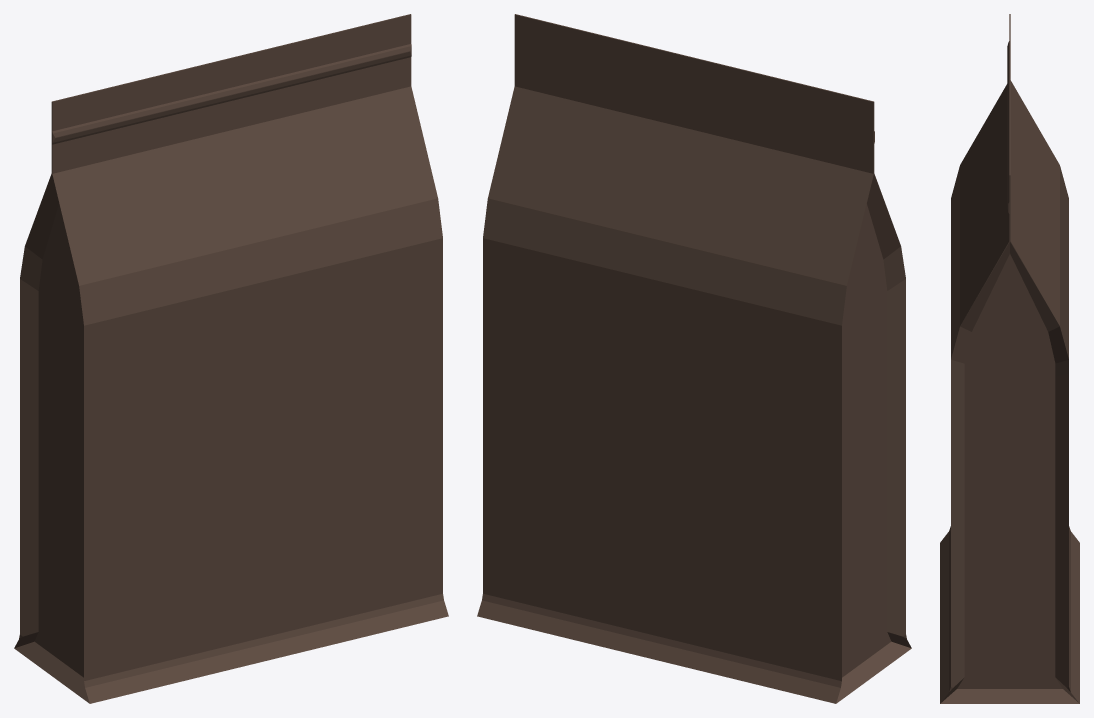
The model's file is flat_bottom_plastic.glb.
3 renders of one model, left to right at view 1: azimuth 30°, elevation 25°; view 2: azimuth 150°, elevation 25°; view 3: azimuth 270°, elevation 25°, orthographic. The views are drawn at different scales.
Parts seen in each view (by area): view 1: Flat Bottom; view 2: Flat Bottom; view 3: Flat Bottom.
Part boxes in pixels (box(x1,y1,x2,y2)): Flat Bottom: box(14, 14, 448, 703); Flat Bottom: box(477, 14, 911, 703); Flat Bottom: box(940, 14, 1079, 703).
Bounding box in the file's own units: 0.4334 × 0.6623 × 0.1586.
